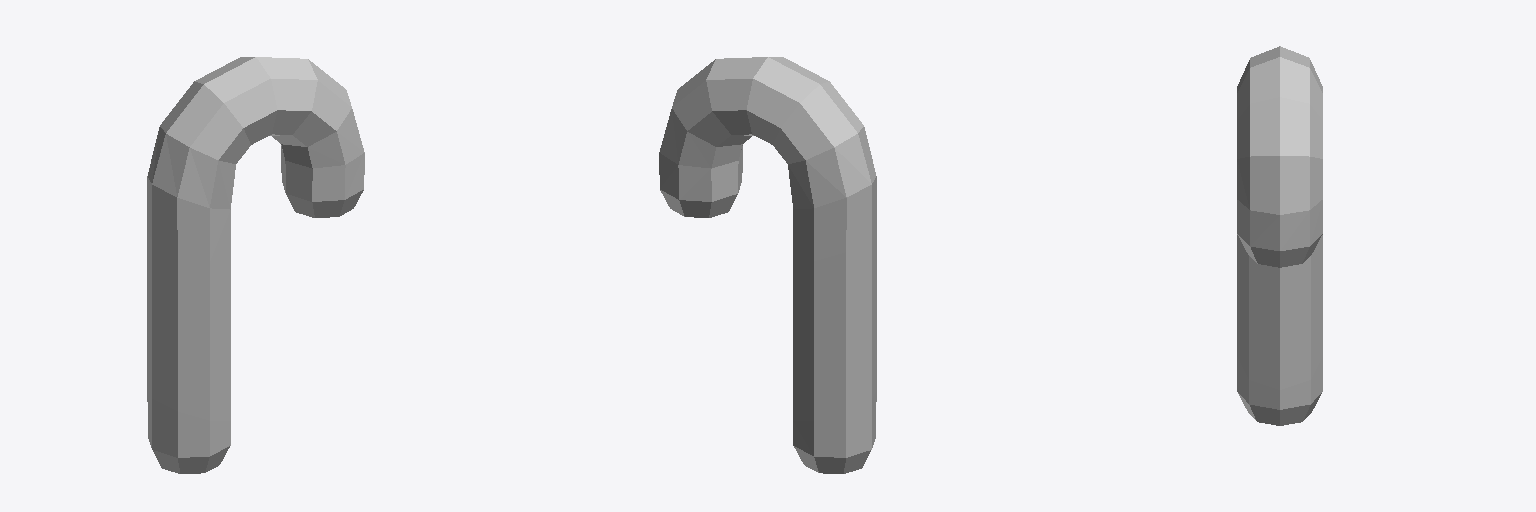
The model's file is candycane_small.obj.
3 views of the same model, side by side, from view 1: azimuth 30°, elevation 25°; view 2: azimuth 150°, elevation 25°; view 3: azimuth 270°, elevation 25° (orthographic).
Visible parts, largest first — view 1: candycane_small; view 2: candycane_small; view 3: candycane_small.
Part boxes in pixels (left/top/right/bottom): candycane_small: left=147, top=57, right=364, bottom=473; candycane_small: left=659, top=57, right=876, bottom=473; candycane_small: left=1237, top=46, right=1322, bottom=425.
Size of the model in its own units: 0.3199 by 0.5843 by 0.1149.